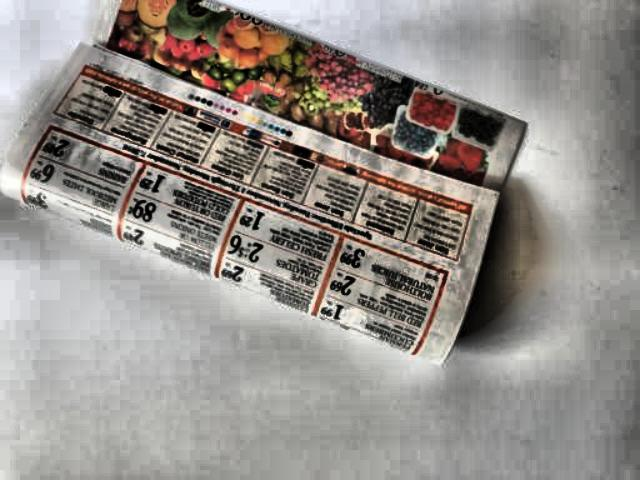Paper: (7, 0, 564, 459)
